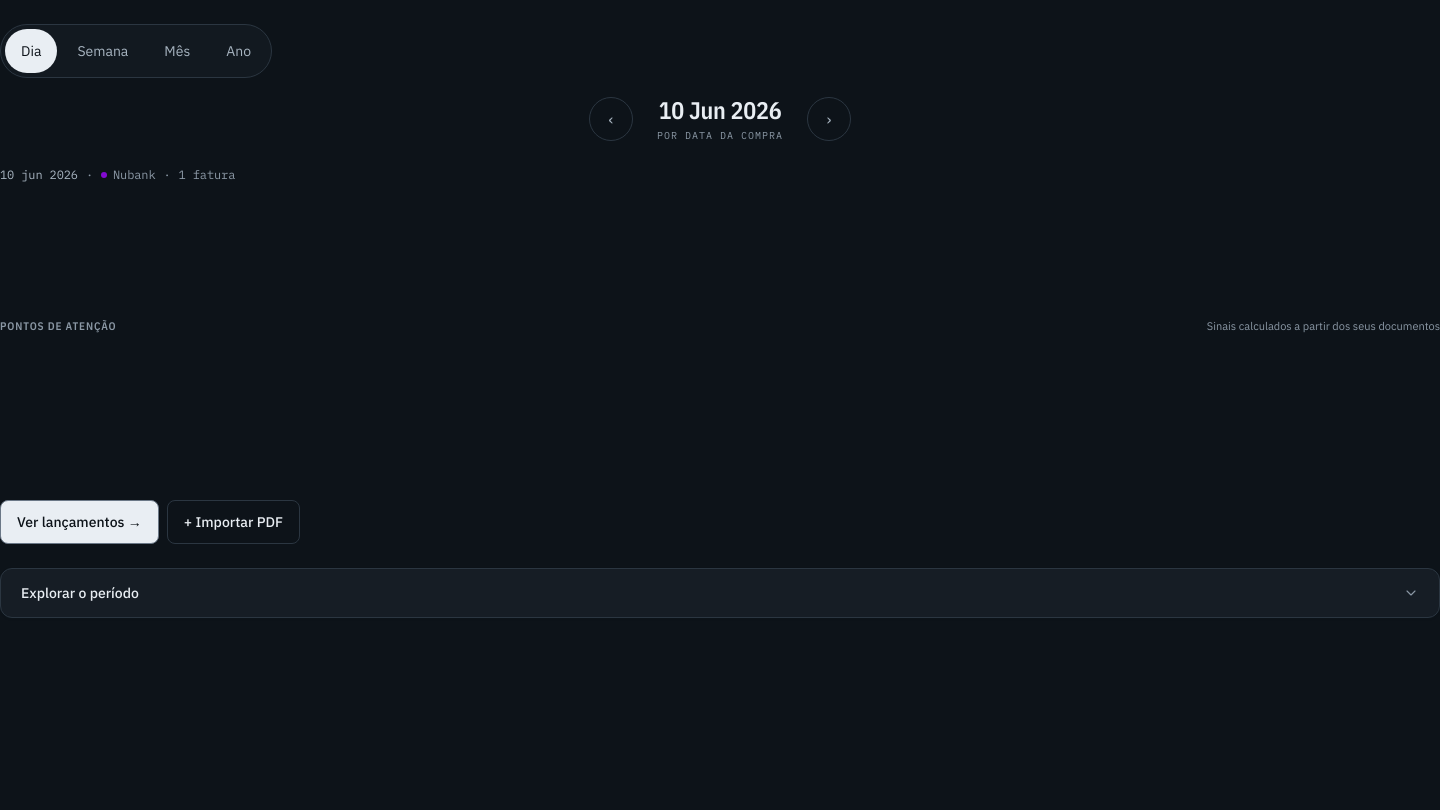
Scenario: Painel — o ritmo diário no período Dia › continua desenhando: a janela vira o mês em volta do dia aberto
What coordinates should you click on to do the following:
click the heading "Explorar o período"
I would click on:
 (80, 593)
Its box is [21,584,1419,602].
(page scrolled)
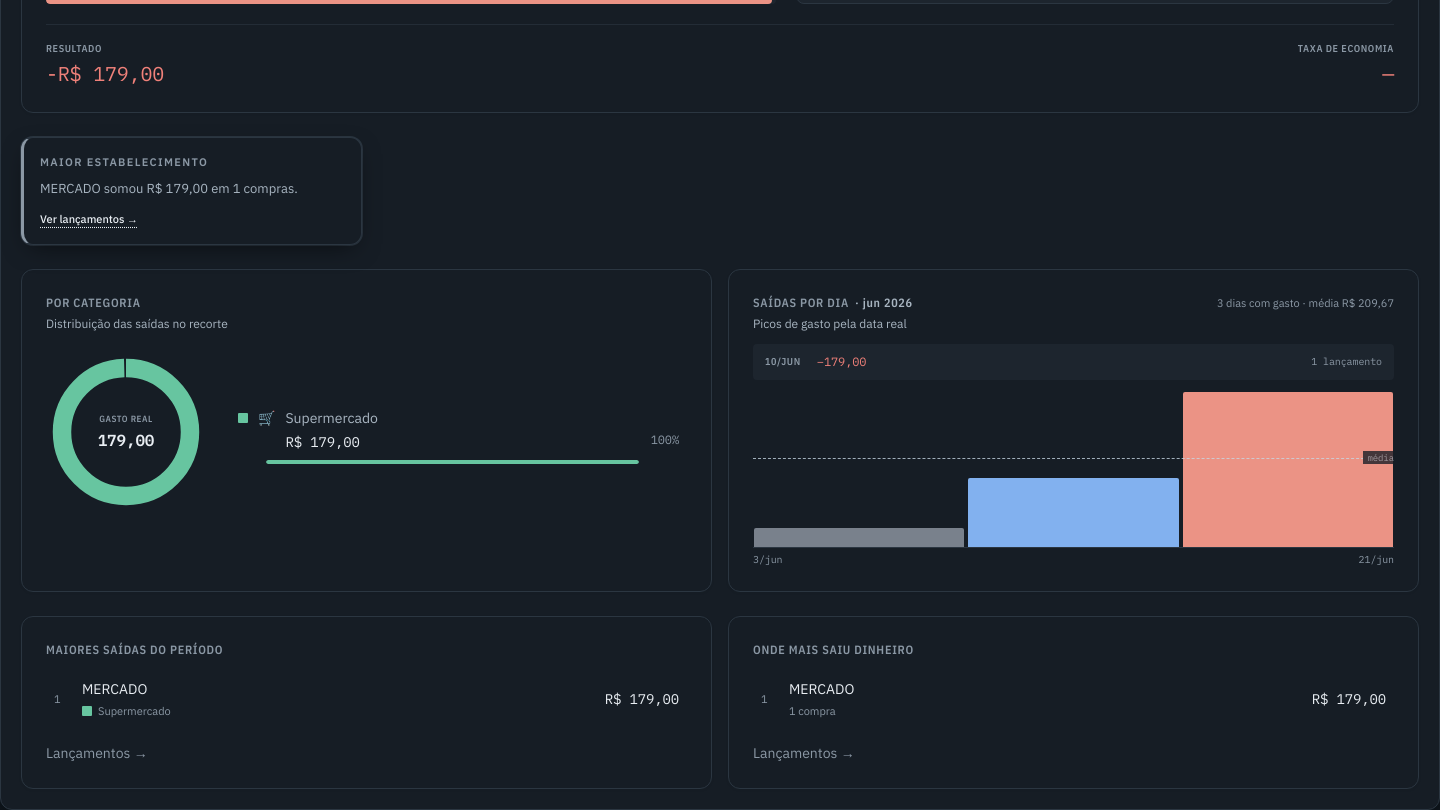
Check: the button named "3/jun" is shown, box [753,388,965,547]
Check: the button named "10/jun" is shown, box [967,388,1180,547]
Check: the button named "21/jun" is shown, box [1182,388,1394,547]
